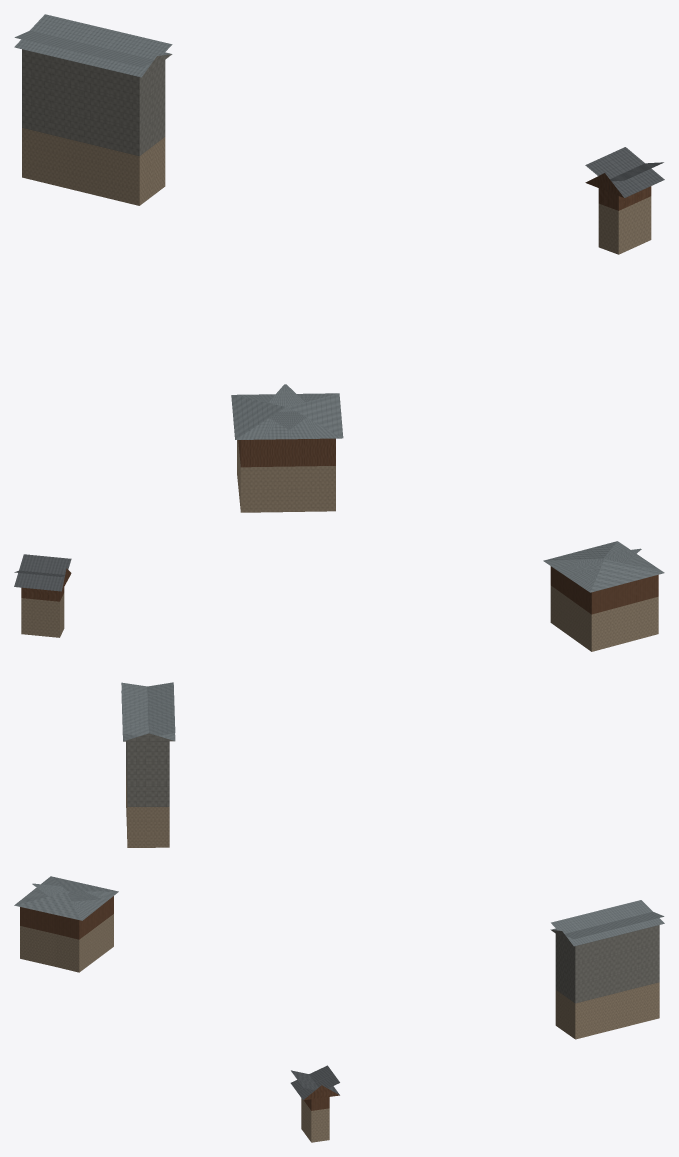
File: bld_c18_29_377.gltf
The picture shows the model from 3 angles, top to bottom: view 1: azimuth 30°, elevation 25°; view 2: azimuth 150°, elevation 25°; view 3: azimuth 270°, elevation 25°; orthographic projection. The views are drawn at different scales.
Visible parts, largest first — view 1: bld_c18_29_377; view 2: bld_c18_29_377; view 3: bld_c18_29_377.
Boxes of the visible parts, x1=… form: bld_c18_29_377: x1=14, y1=14, x2=664, y2=512; bld_c18_29_377: x1=14, y1=541, x2=664, y2=847; bld_c18_29_377: x1=14, y1=876, x2=664, y2=1142.
Size of the model in its own units: 64.87 by 14.5 by 83.57.
Materials: 7 (7 with a texture image).
